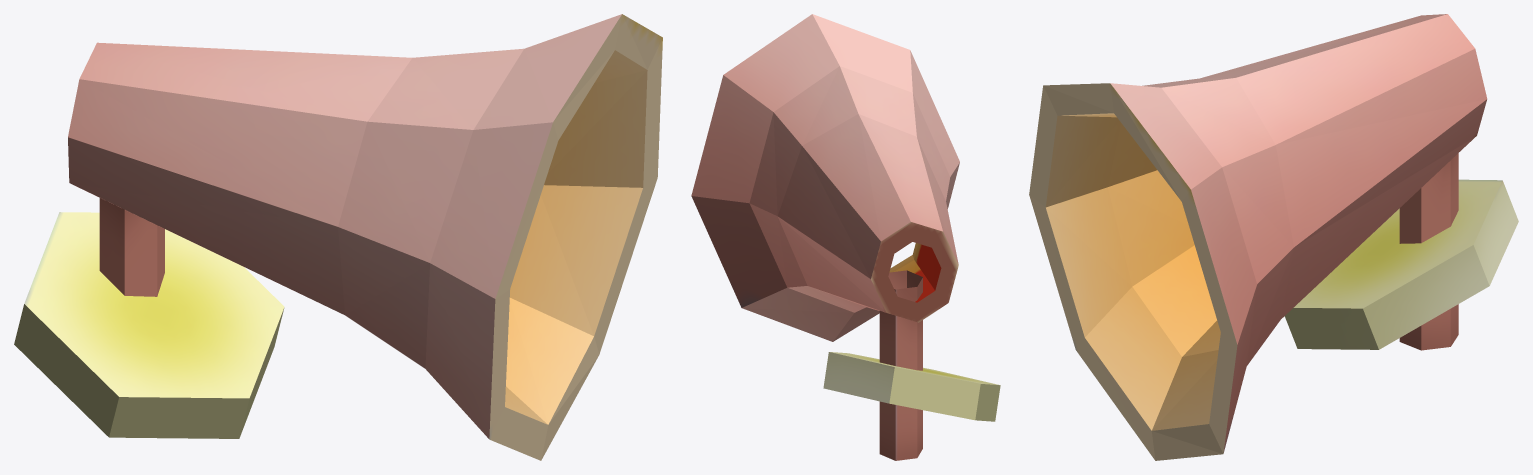
The model's file is Ceshichangji_XiaoLaBa_01.FBX.
3 views of the same model, side by side, from view 1: azimuth 30°, elevation 25°; view 2: azimuth 150°, elevation 25°; view 3: azimuth 270°, elevation 25° (orthographic). The views are drawn at different scales.
Visible parts, largest first — view 1: Object010; view 2: Object010; view 3: Object010.
Boxes of the visible parts, left/top/right/bottom form: Object010: left=14, top=14, right=662, bottom=460; Object010: left=691, top=14, right=1000, bottom=460; Object010: left=1029, top=14, right=1518, bottom=460.
Bounding box in the file's own units: 199 × 161 × 178.
